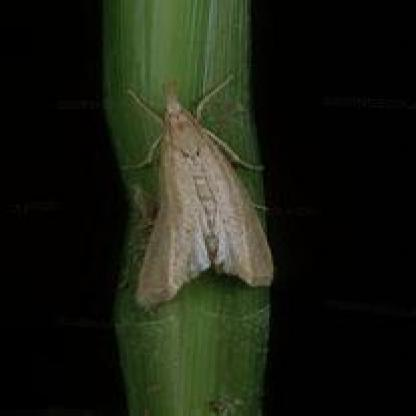stem-borer: (127, 75, 258, 305)
